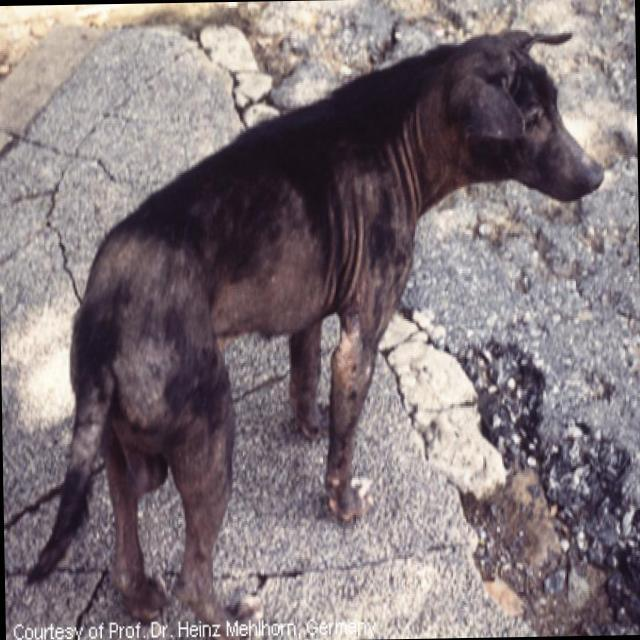mange: (213, 99, 455, 431), (97, 230, 220, 425)
